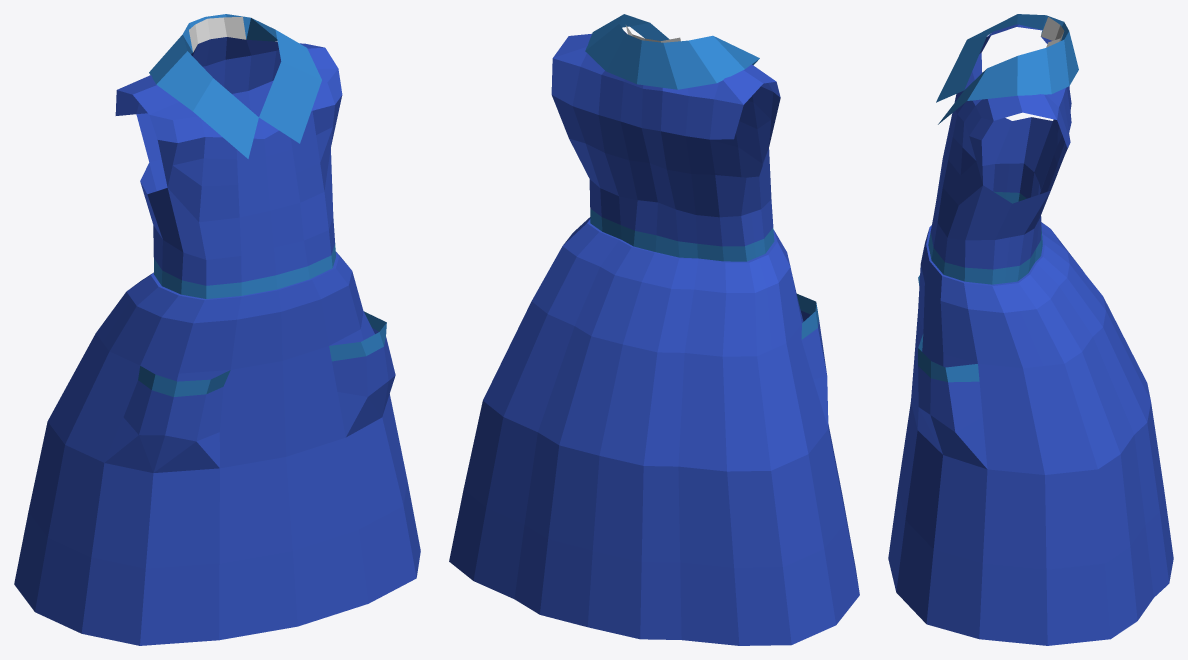
The model's file is lina-dress-only.fbx.
3 renders of one model, left to right at view 1: azimuth 30°, elevation 25°; view 2: azimuth 150°, elevation 25°; view 3: azimuth 270°, elevation 25°, orthographic. The views are drawn at different scales.
Parts seen in each view (by area): view 1: lina-body.002; view 2: lina-body.002; view 3: lina-body.002.
Boxes of the visible parts, left/top/right/bottom form: lina-body.002: left=14, top=14, right=420, bottom=645; lina-body.002: left=449, top=14, right=859, bottom=645; lina-body.002: left=888, top=14, right=1173, bottom=645.
Size of the model in its own units: 113 by 162 by 233.
